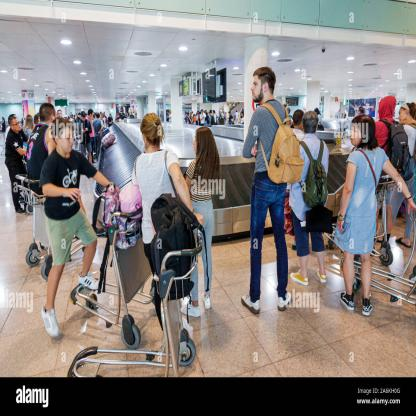airport-trolley: (60, 237, 204, 375), (68, 212, 156, 348), (319, 224, 416, 308), (8, 170, 57, 282)
